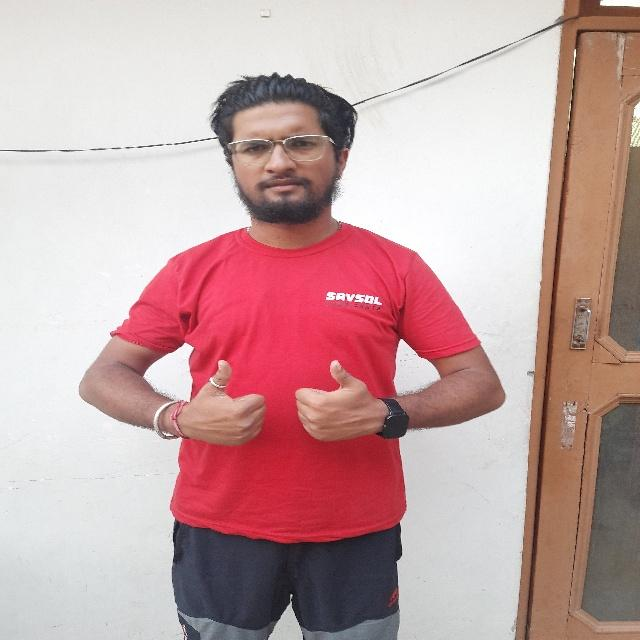Thumbs Up: (164, 355, 270, 453), (289, 357, 389, 447)
